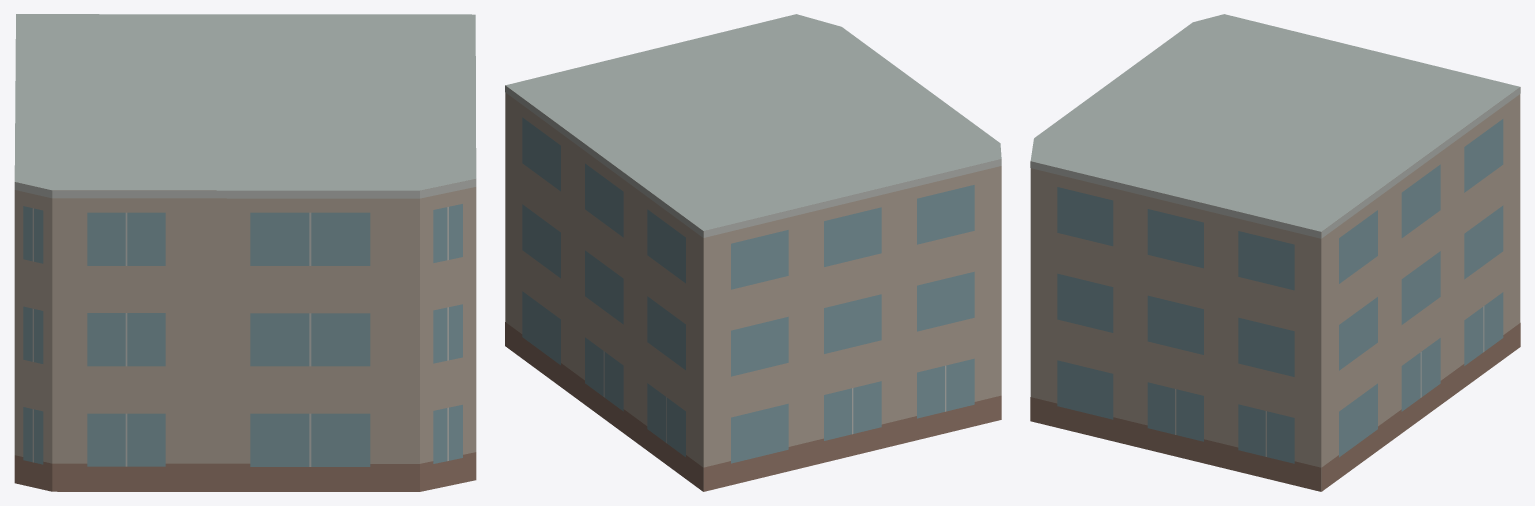
File: survey-upis-32654883.glb
3 renders of one model, left to right at view 1: azimuth 30°, elevation 25°; view 2: azimuth 150°, elevation 25°; view 3: azimuth 270°, elevation 25°, orthographic. The views are drawn at different scales.
Parts seen in each view (by area): view 1: survey-upis-32654883.tmp; view 2: survey-upis-32654883.tmp; view 3: survey-upis-32654883.tmp.
Boxes of the visible parts, left/top/right/bottom form: survey-upis-32654883.tmp: left=14, top=14, right=476, bottom=491; survey-upis-32654883.tmp: left=505, top=14, right=1001, bottom=491; survey-upis-32654883.tmp: left=1030, top=14, right=1520, bottom=491.
Size of the model in its own units: 16.45 by 9.15 by 15.63.
